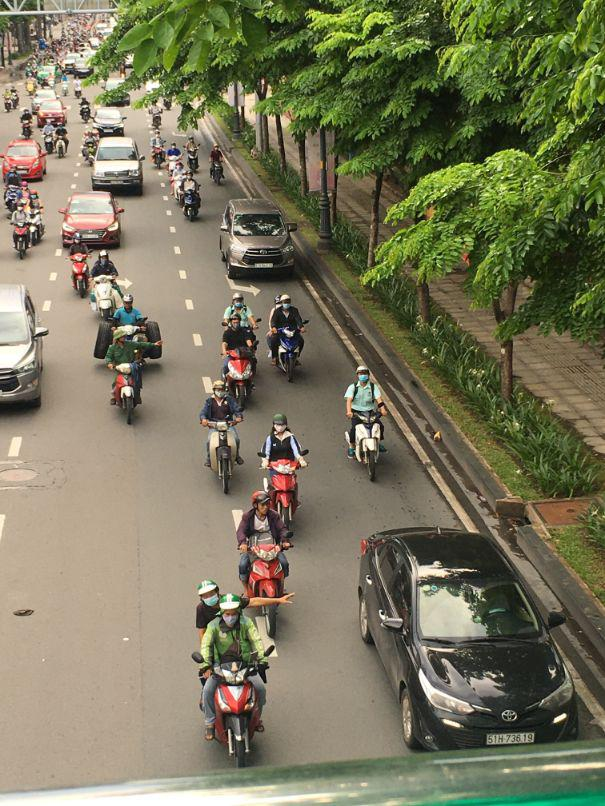car: (353, 527, 597, 760), (221, 198, 299, 279), (0, 284, 47, 414), (62, 191, 124, 250), (93, 138, 145, 195), (3, 139, 46, 186), (95, 107, 127, 135)
motorbike: (237, 537, 297, 642), (204, 661, 266, 761), (264, 451, 303, 531), (204, 419, 242, 495), (223, 342, 260, 415), (272, 323, 307, 384), (356, 415, 386, 484), (69, 248, 93, 300), (182, 188, 202, 221), (211, 148, 225, 184)
